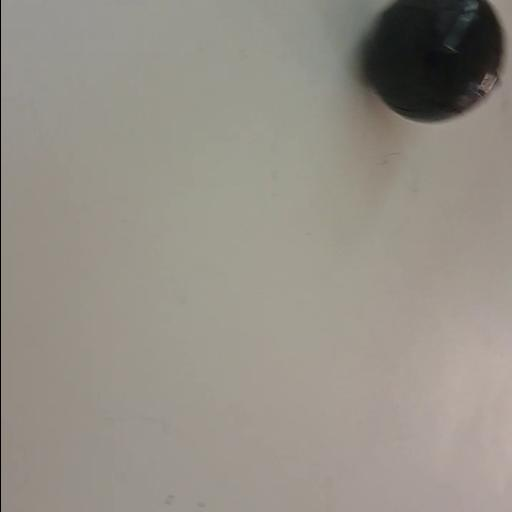dead: (360, 0, 507, 126)
